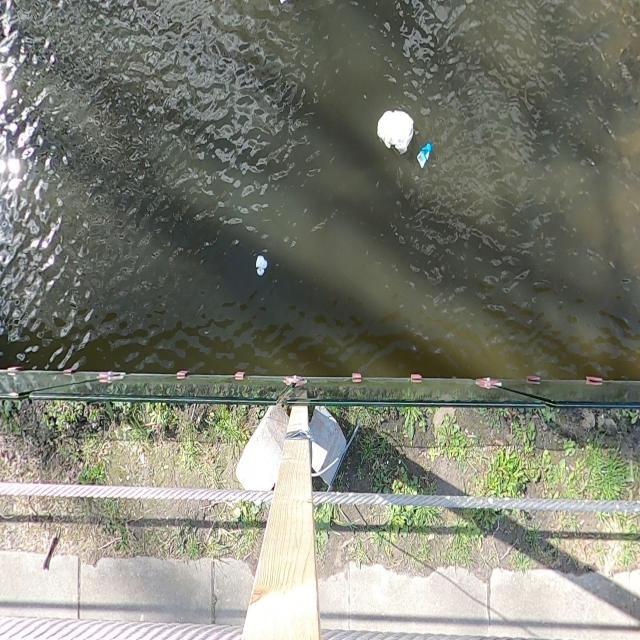Sac plastique: (374, 103, 414, 156)
